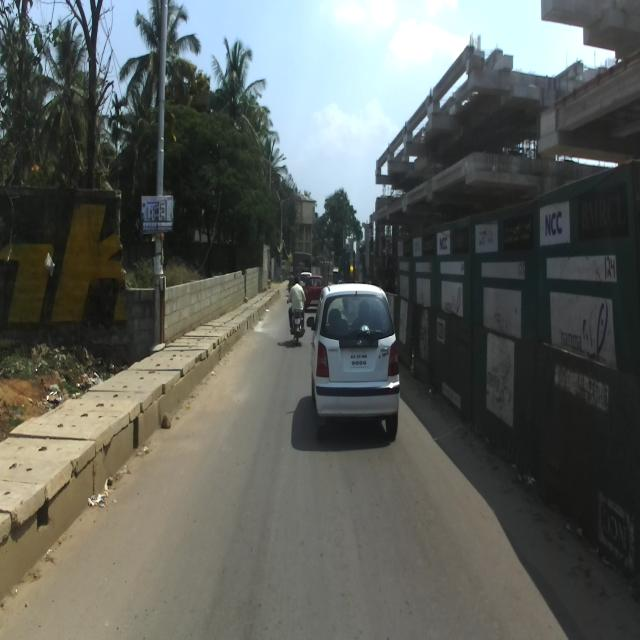car ahead at: (312, 279, 404, 449)
footpath on: (0, 282, 283, 605)
